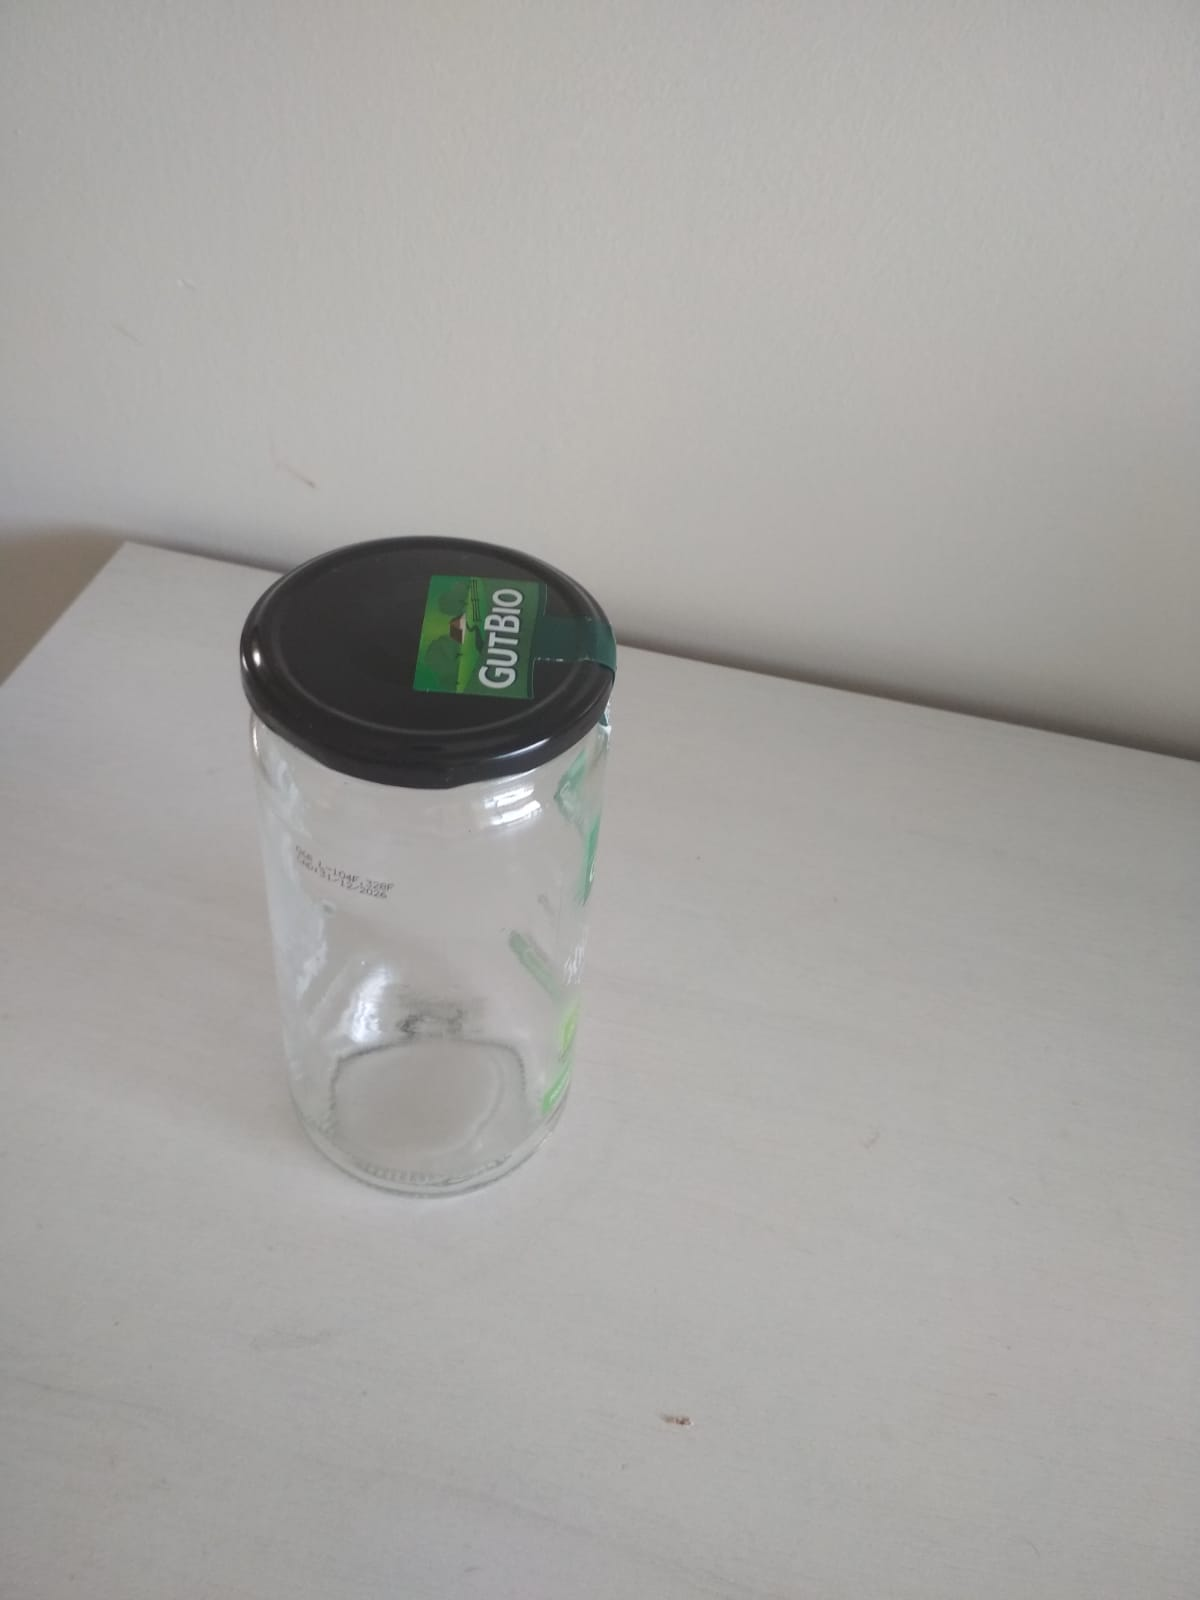pote cristal: (243, 534, 616, 1201)
